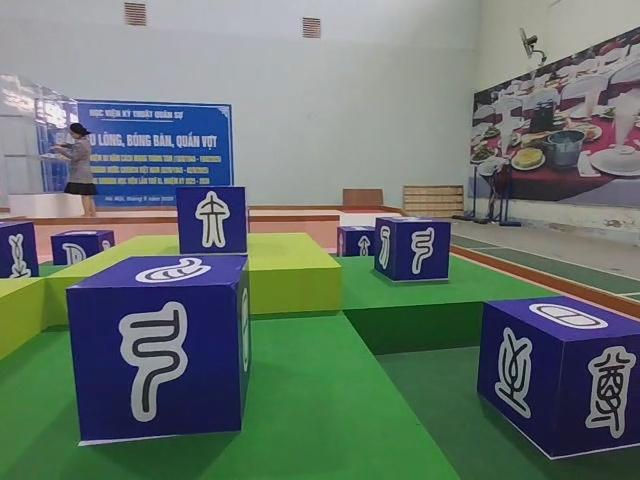R2 Fake Blue: (65, 249, 253, 442), (479, 295, 640, 464), (376, 218, 454, 286), (176, 186, 249, 257)
R2 Real Blue: (49, 231, 115, 269), (0, 222, 36, 282), (337, 227, 378, 259)
